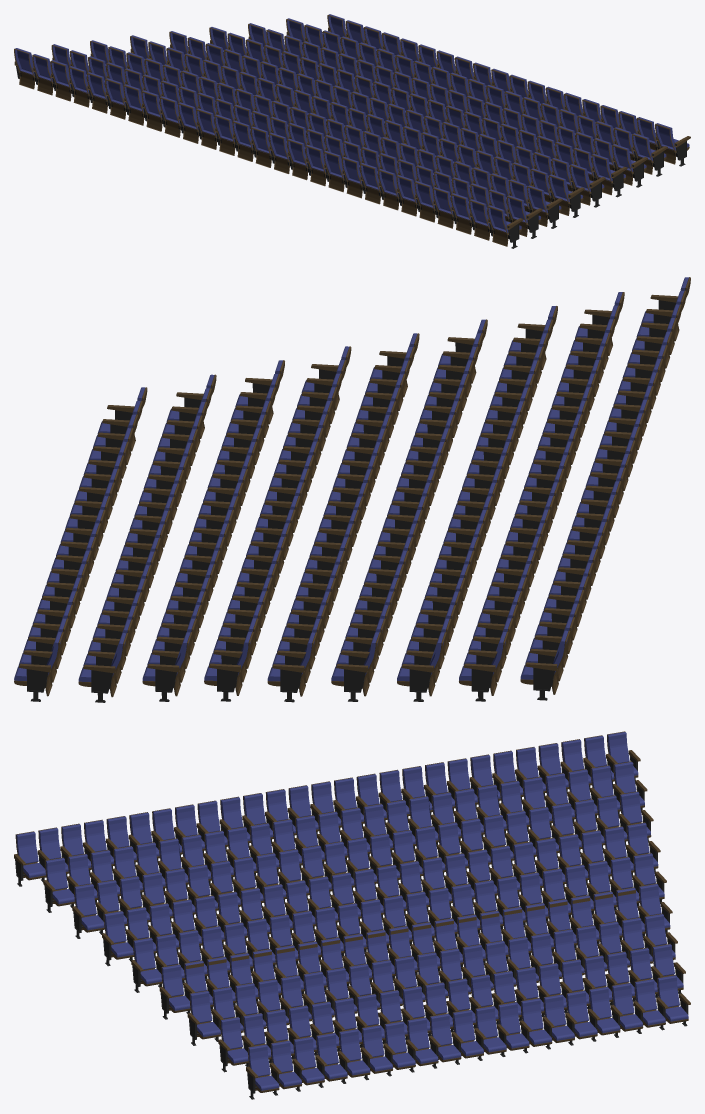
File: LowPoly_FarRight_Seating.fbx
3 renders of one model, top to bottom at view 1: azimuth 30°, elevation 25°; view 2: azimuth 150°, elevation 25°; view 3: azimuth 270°, elevation 25°, orthographic. The views are drawn at different scales.
Visible parts, largest first — view 1: Far Right; view 2: Far Right; view 3: Far Right.
Boxes of the visible parts, x1,y1,x2,y2 form: Far Right: [14, 14, 690, 248]; Far Right: [14, 277, 690, 702]; Far Right: [14, 731, 690, 1099].
Size of the model in its own units: 1281 by 260 by 1410.
